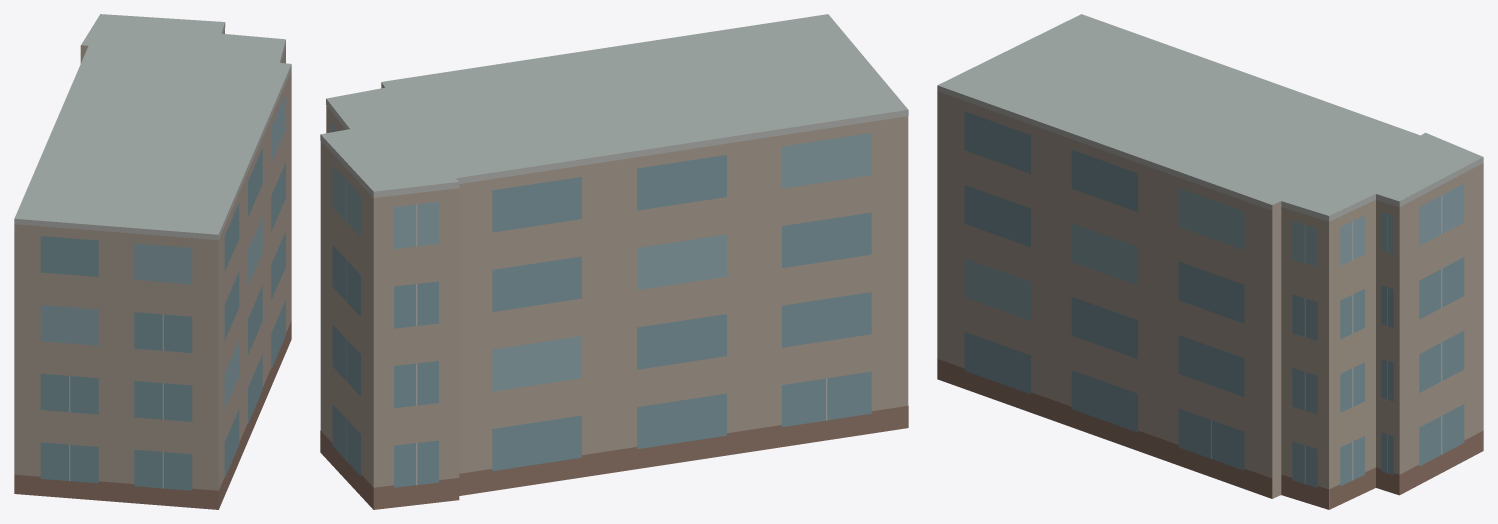
Rendered from survey-upis-32634788.glb.
3 views of the same model, side by side, from view 1: azimuth 30°, elevation 25°; view 2: azimuth 150°, elevation 25°; view 3: azimuth 270°, elevation 25° (orthographic). The views are drawn at different scales.
Parts seen in each view (by area): view 1: survey-upis-32634788.tmp; view 2: survey-upis-32634788.tmp; view 3: survey-upis-32634788.tmp.
Part boxes in pixels (box(x1,y1,x2,y2)): survey-upis-32634788.tmp: box(14, 14, 291, 509); survey-upis-32634788.tmp: box(320, 14, 908, 509); survey-upis-32634788.tmp: box(937, 14, 1483, 509).
Size of the model in its own units: 18.14 by 12.3 by 20.73.
